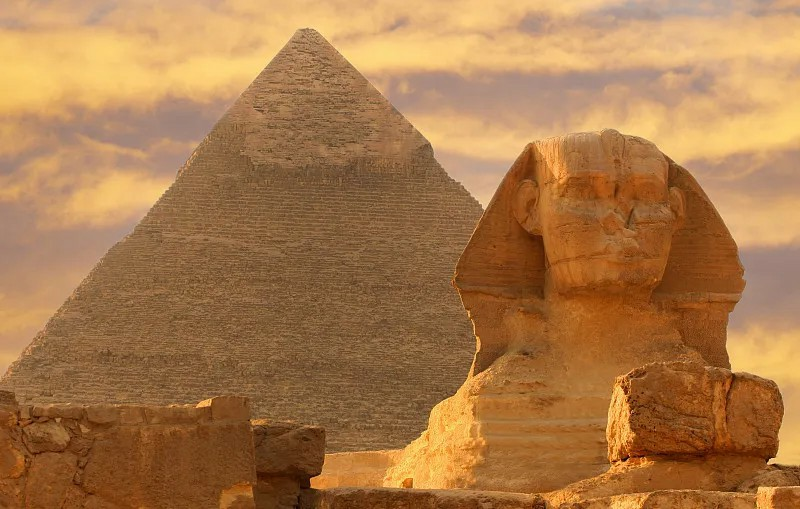Pyramid: (5, 28, 486, 451)
